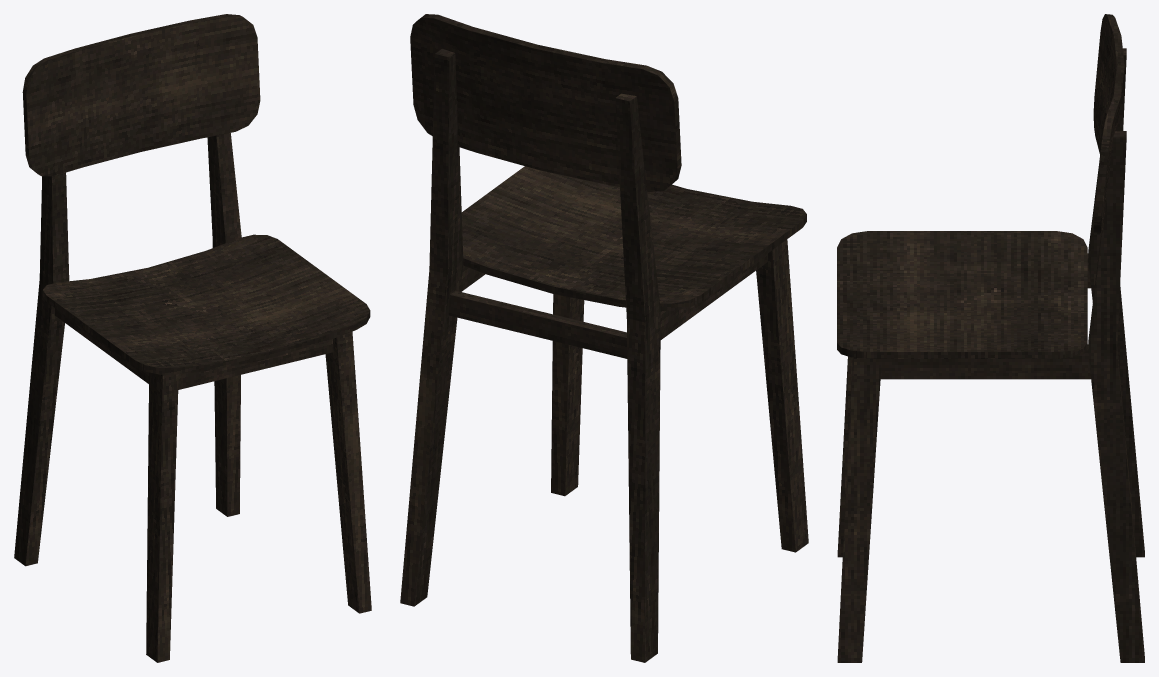
Rendered from chair_mp_3_2.glb.
3 renders of one model, left to right at view 1: azimuth 30°, elevation 25°; view 2: azimuth 150°, elevation 25°; view 3: azimuth 270°, elevation 25°, orthographic. The views are drawn at different scales.
Visible parts, largest first — view 1: chair_mp_3_2; view 2: chair_mp_3_2; view 3: chair_mp_3_2.
Part boxes in pixels (x1,y1,x2,y2): chair_mp_3_2: [14, 14, 371, 662]; chair_mp_3_2: [400, 14, 808, 662]; chair_mp_3_2: [837, 14, 1144, 662].
Bounding box in the file's own units: 0.4763 × 0.9967 × 0.5126.
Materials: 1 (1 with a texture image).
